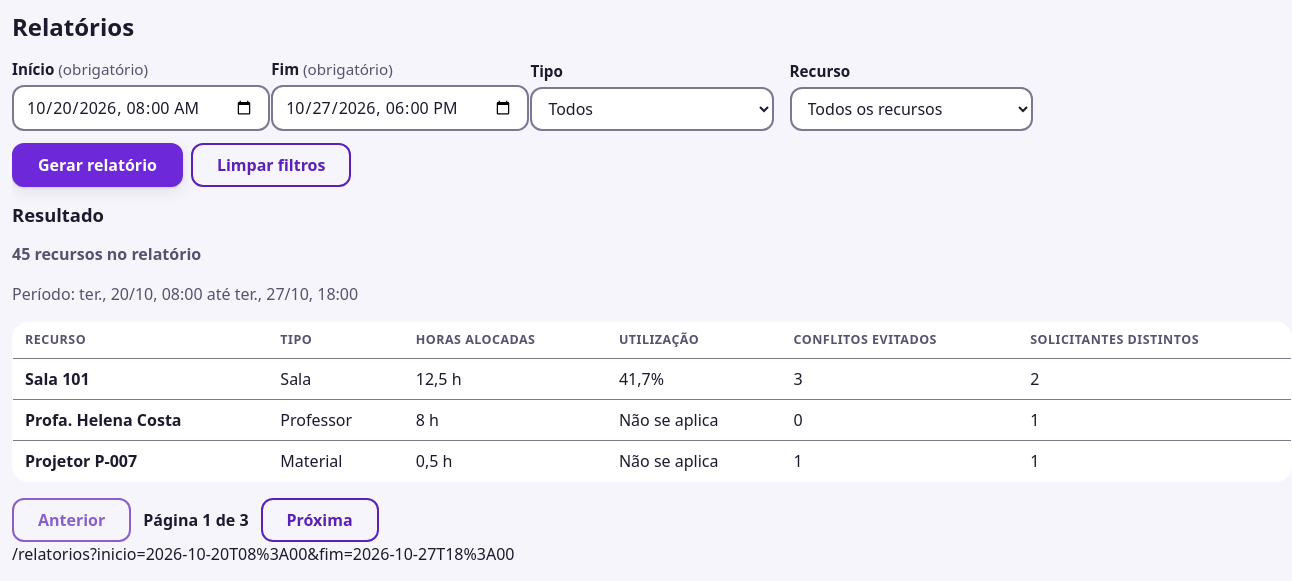
Scenario: PaginaDeRelatorios: paginação (o tamanho da página é a suposição D4) › Próxima consulta a página seguinte, atualiza o endereço e leva o foco ao resultado
Expected: the text "Página 1 de 3" is shown, [143,508,249,532]
Click the button "Próxima" at (320, 520), box [260,498,379,542]
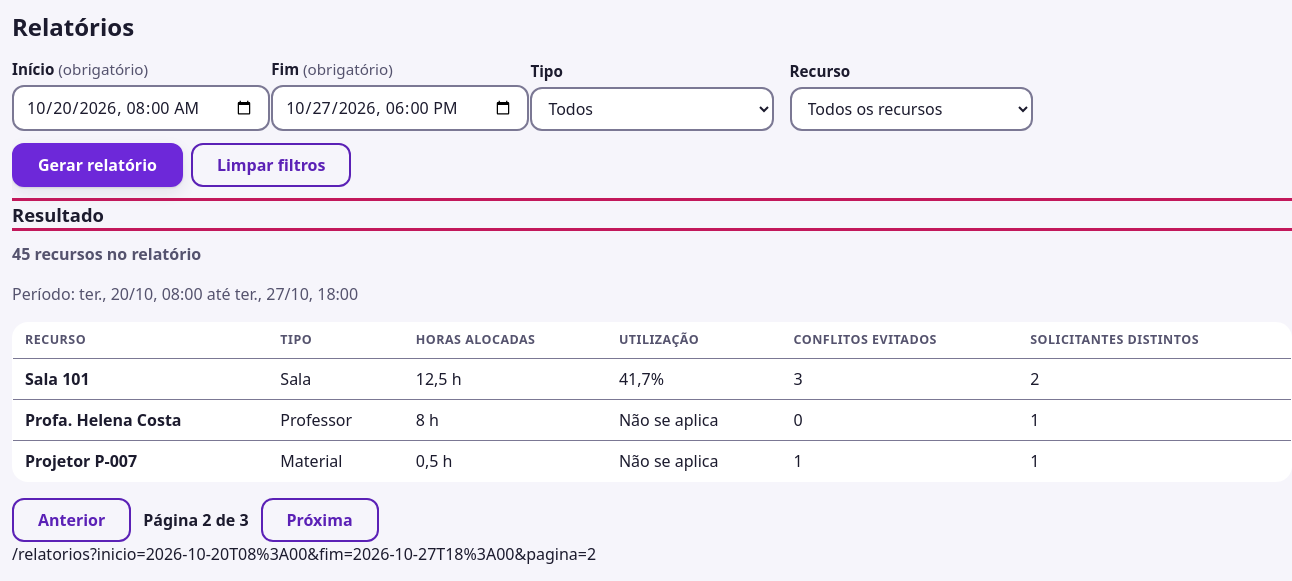
Expected: the text "Página 2 de 3" is shown, [143,508,249,532]
Expected: the text named "endereço atual" shows "pagina=2", [12,542,596,564]
Expected: the button "Anterior" is enabled, [12,498,131,542]
